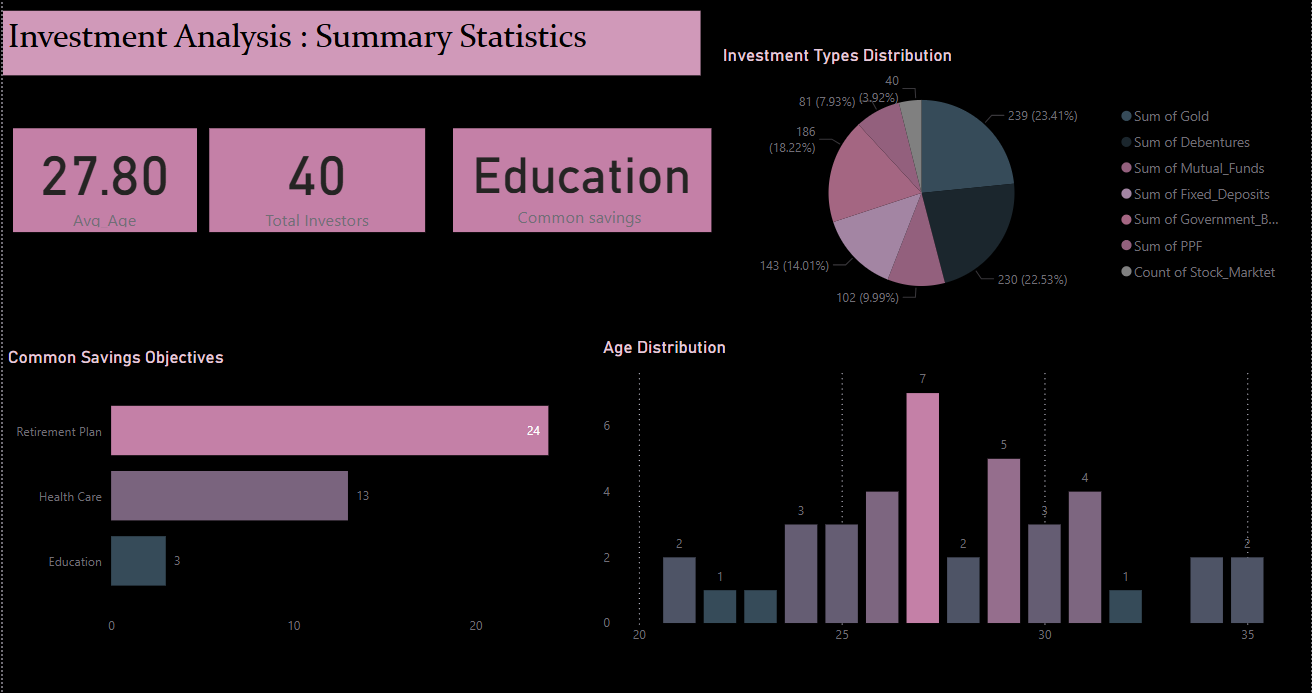

The dashboard page shown, as its layout file describes it:
{"tool":"powerbi","page":{"name":"Summary Statistics","canvas":[1280,720],"ordinal":0},"visuals":[{"type":"card","fields":{"Values":["POWER BI COGNIFZY.Avg_Age"]},"box":[9.6,167.4,179.8,101.5],"z":0},{"type":"card","fields":{"Values":["CountNonNull(POWER BI COGNIFZY.Avenue)"]},"box":[201.7,167.4,211.3,101.5],"z":1000},{"type":"clusteredBarChart","title":"  Common Savings Objectives","fields":{"Category":["POWER BI COGNIFZY.What are your savings objectives?"],"Y":["CountNonNull(POWER BI COGNIFZY.What are your savings objectives?)"]},"box":[0,381.5,566.7,290.9],"z":2000},{"type":"card","fields":{"Values":["Min(POWER BI COGNIFZY.What are your savings objectives?)"]},"box":[440.5,167.4,252.5,101.5],"z":3000},{"type":"clusteredColumnChart","title":" Age Distribution","fields":{"Y":["CountNonNull(POWER BI COGNIFZY.Age group)"],"Category":["POWER BI COGNIFZY.age"]},"box":[581.8,371.9,698.5,310.1],"z":4000},{"type":"pieChart","title":"Investment Types Distribution","fields":{"Y":["Sum(POWER BI COGNIFZY.Gold)","Sum(POWER BI COGNIFZY.Debentures)","Sum(POWER BI COGNIFZY.Mutual_Funds)","Sum(POWER BI COGNIFZY.Fixed_Deposits)","Sum(POWER BI COGNIFZY.Government_Bonds)","Sum(POWER BI COGNIFZY.PPF)","CountNonNull(POWER BI COGNIFZY.Stock_Marktet)"]},"box":[699.8,85.1,566.7,271.7],"z":5000},{"type":"textbox","box":[0,52,682,63],"z":6000}]}

Visuals, with their boxes on the page's 1280x720 design canvas (x1, y1, x2, y2). These are canvas units, not pixel positions in the 1312x693 screenshot, which may show the page scaled, cropped or inside an application window:
card - POWER BI COGNIFZY.Avg_Age: crop(10, 167, 189, 269)
card - CountNonNull(POWER BI COGNIFZY.Avenue): crop(202, 167, 413, 269)
"  Common Savings Objectives" clusteredBarChart: crop(0, 382, 567, 672)
card - Min(POWER BI COGNIFZY.What are your savings objectives?): crop(440, 167, 693, 269)
" Age Distribution" clusteredColumnChart: crop(582, 372, 1280, 682)
"Investment Types Distribution" pieChart: crop(700, 85, 1266, 357)
textbox: crop(0, 52, 682, 115)
